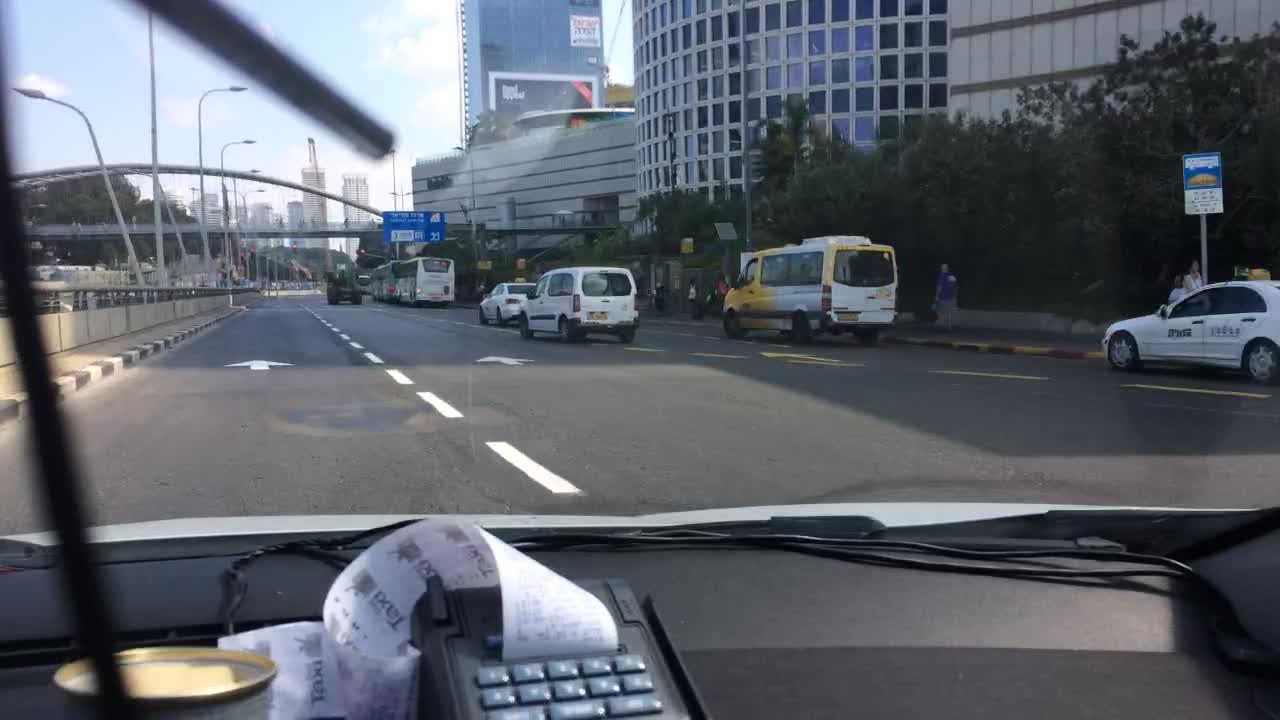bus: (397, 253, 455, 308), (366, 260, 407, 300), (354, 273, 375, 296)
car: (724, 233, 899, 351), (1103, 277, 1278, 386), (518, 263, 641, 342), (476, 280, 538, 327), (323, 267, 360, 306)
person: (935, 262, 959, 334), (684, 273, 703, 318), (712, 266, 731, 310), (1183, 258, 1206, 293), (1166, 273, 1191, 302), (655, 278, 666, 318)
traffic light: (289, 239, 298, 251), (247, 244, 256, 256), (236, 244, 243, 259)
traffic sign: (383, 209, 447, 241), (482, 229, 500, 251), (476, 259, 494, 270)
